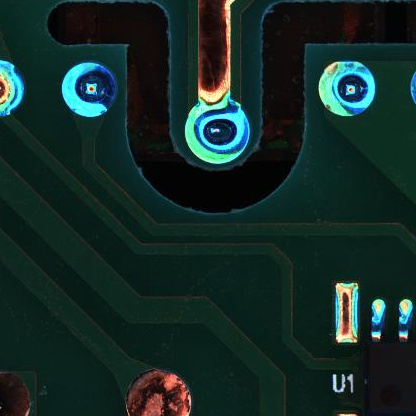spot: (183, 99, 250, 165), (319, 60, 375, 118), (60, 62, 119, 117)
